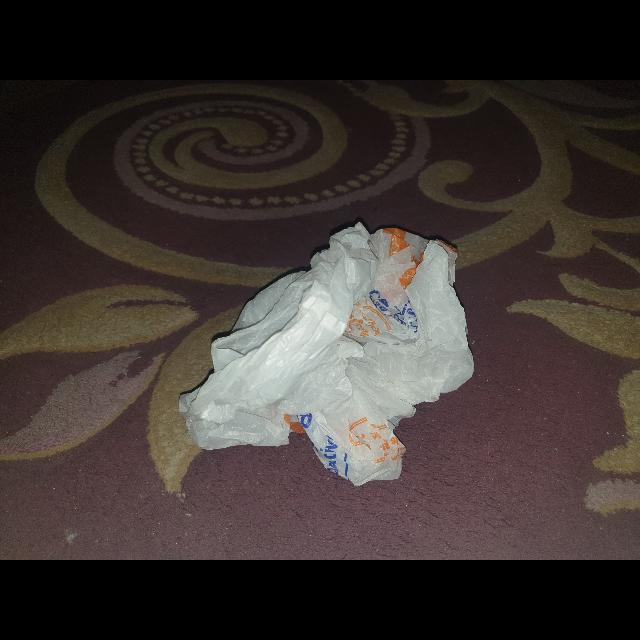plastic_bag: (173, 212, 483, 492)
